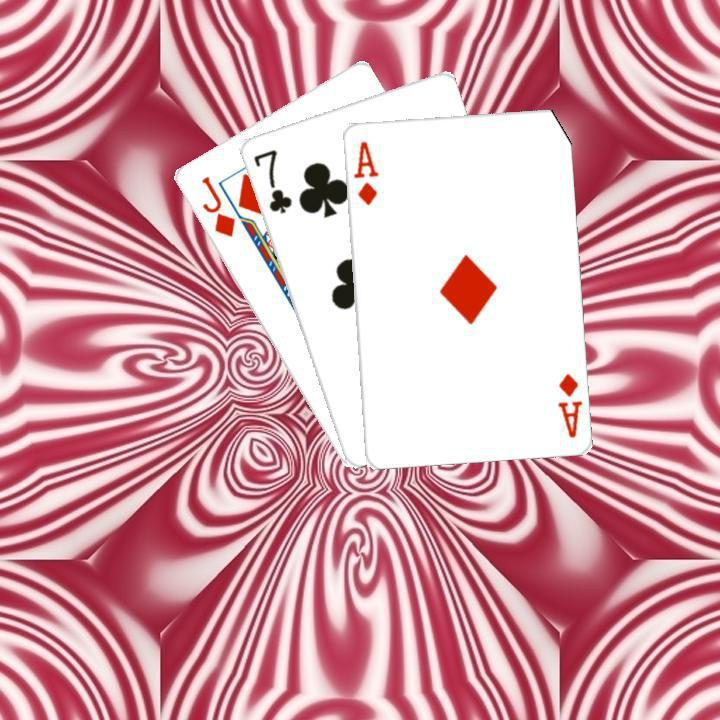7: (248, 145, 294, 216)
A: (349, 136, 380, 207), (552, 369, 583, 439)
J: (196, 172, 237, 240)
